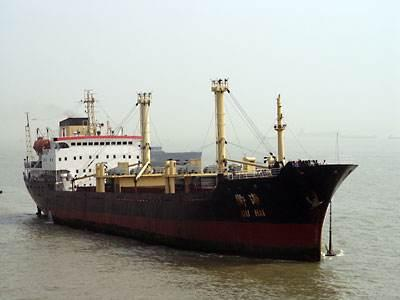Cargoship: (22, 77, 348, 254)
